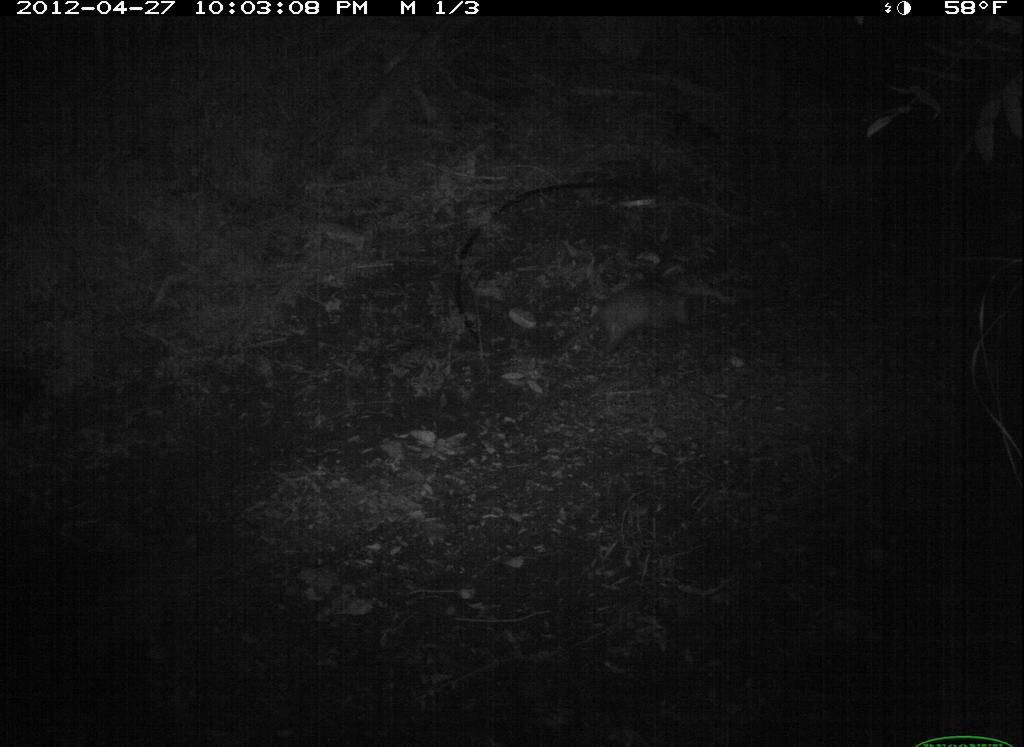opossum: (546, 276, 705, 363)
